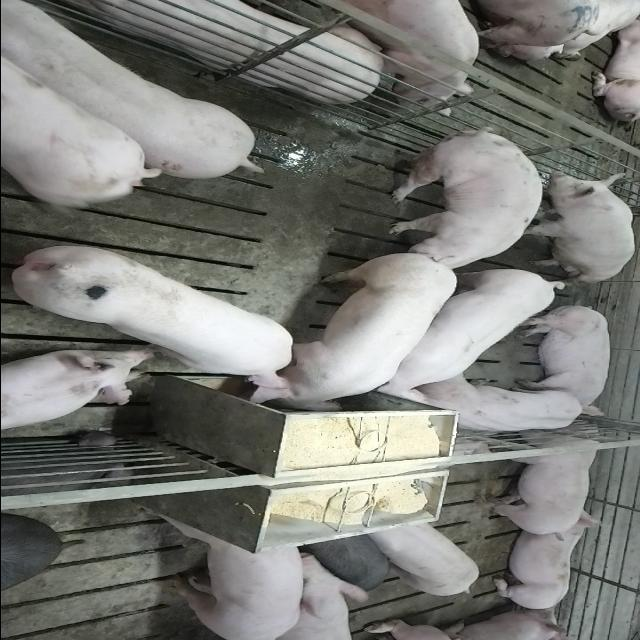Feeding: (9, 243, 298, 392), (251, 257, 467, 420)
Lateral_lying: (25, 0, 387, 102), (512, 303, 612, 417)
Sitting: (516, 170, 634, 284)
Standing: (1, 0, 261, 178), (360, 265, 568, 398), (378, 121, 548, 265), (142, 509, 303, 638), (469, 422, 609, 538), (332, 0, 476, 107), (362, 516, 480, 598)
Sternal_lying: (0, 349, 155, 434), (486, 514, 606, 612), (411, 376, 586, 437)
